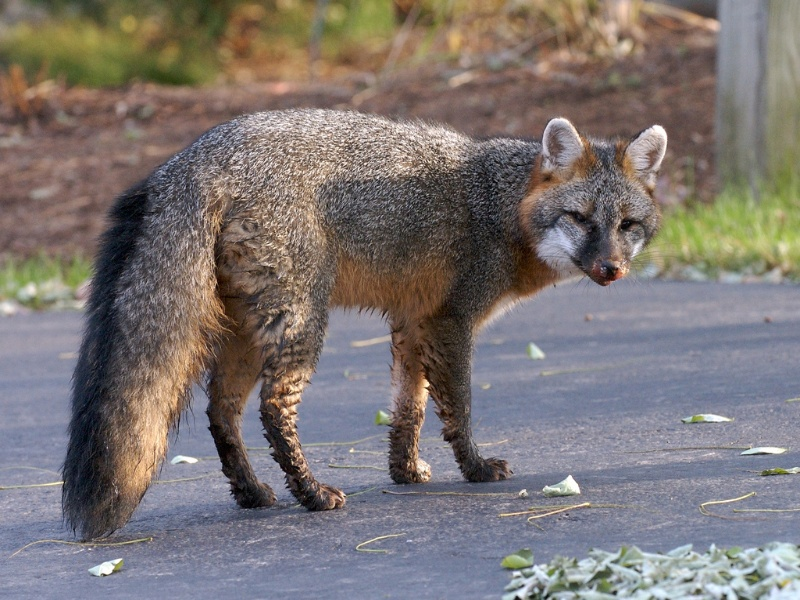fox: (57, 99, 672, 548)
